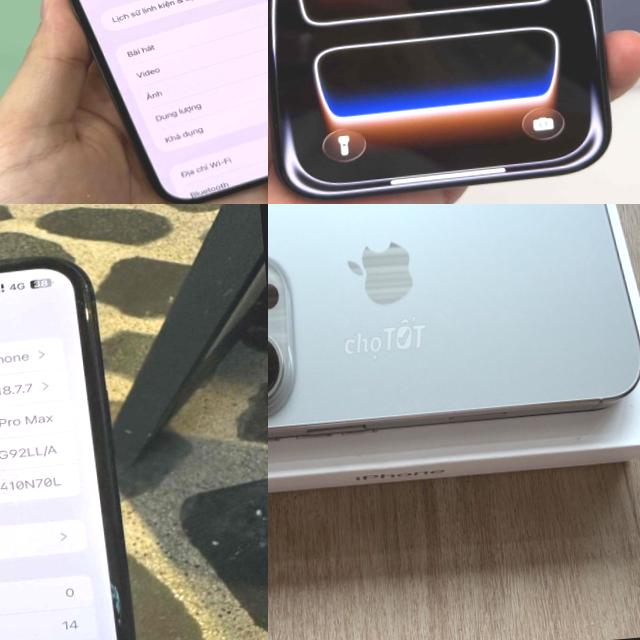gen_11: (0, 257, 135, 640)
gen_14: (0, 0, 268, 204)
gen_16: (268, 204, 640, 457)
gen_17: (268, 0, 632, 204)
